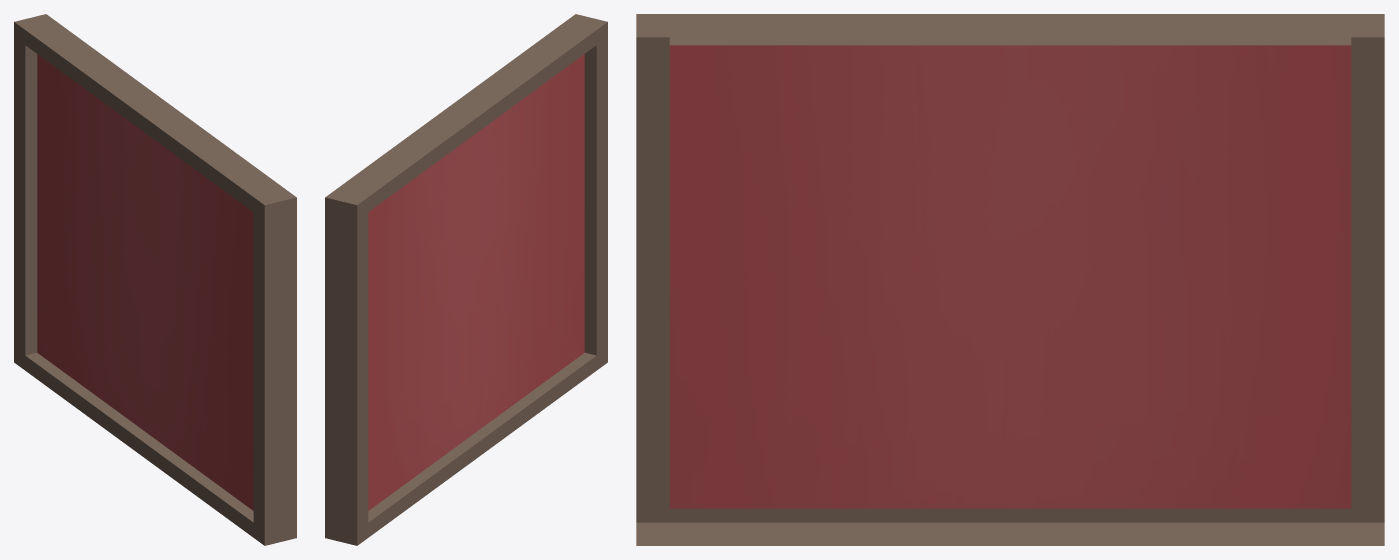
The model's file is mirrorBoard.fbx.
3 renders of one model, left to right at view 1: azimuth 30°, elevation 25°; view 2: azimuth 150°, elevation 25°; view 3: azimuth 270°, elevation 25°, orthographic. The views are drawn at different scales.
Visible parts, largest first — view 1: pCube112; view 2: pCube112; view 3: pCube112.
Part boxes in pixels (x1,y1,x2,y2): pCube112: (14,14,296,545); pCube112: (325,14,607,545); pCube112: (636,14,1384,545).
Bounding box in the file's own units: 0.1236 × 1.25 × 1.67.
